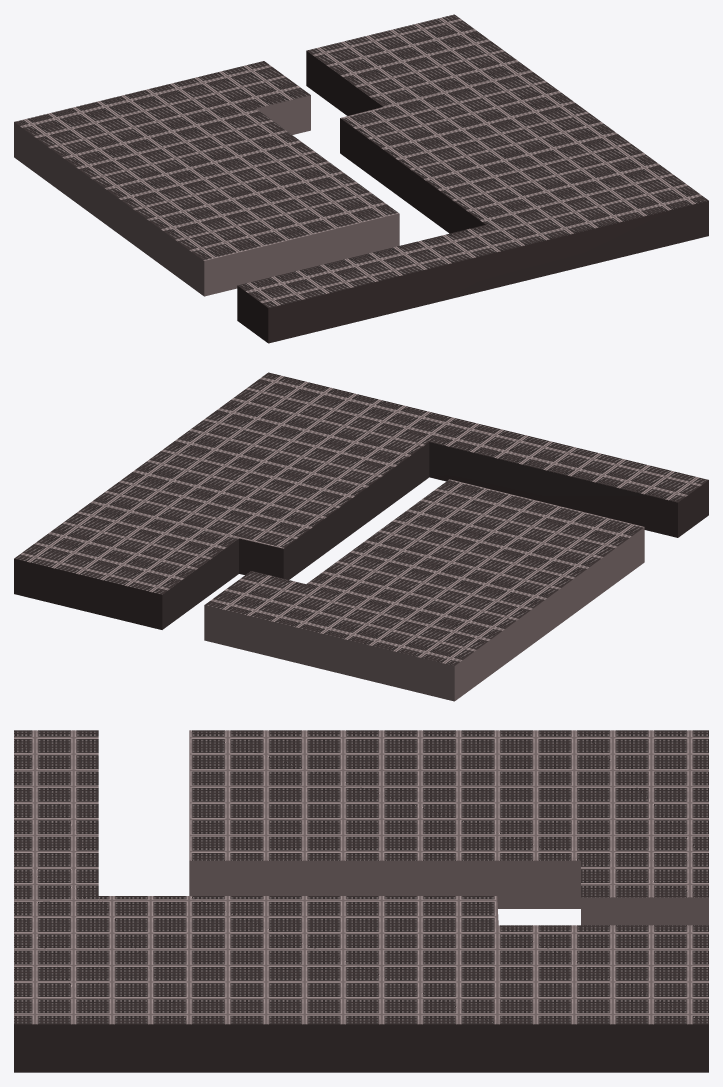
The model's file is Room3_FirstFloor.glb.
3 views of the same model, one above another, from view 1: azimuth 30°, elevation 25°; view 2: azimuth 150°, elevation 25°; view 3: azimuth 270°, elevation 25° (orthographic). The views are drawn at different scales.
Visible parts, largest first — view 1: Cube.016; view 2: Cube.016; view 3: Cube.016.
Boxes of the visible parts, x1,y1,x2,y2 form: Cube.016: (14, 14, 708, 343); Cube.016: (14, 372, 708, 701); Cube.016: (14, 730, 708, 1072).
Size of the model in its own units: 50 by 3.84 by 50.
Materials: 1 (1 with a texture image).
